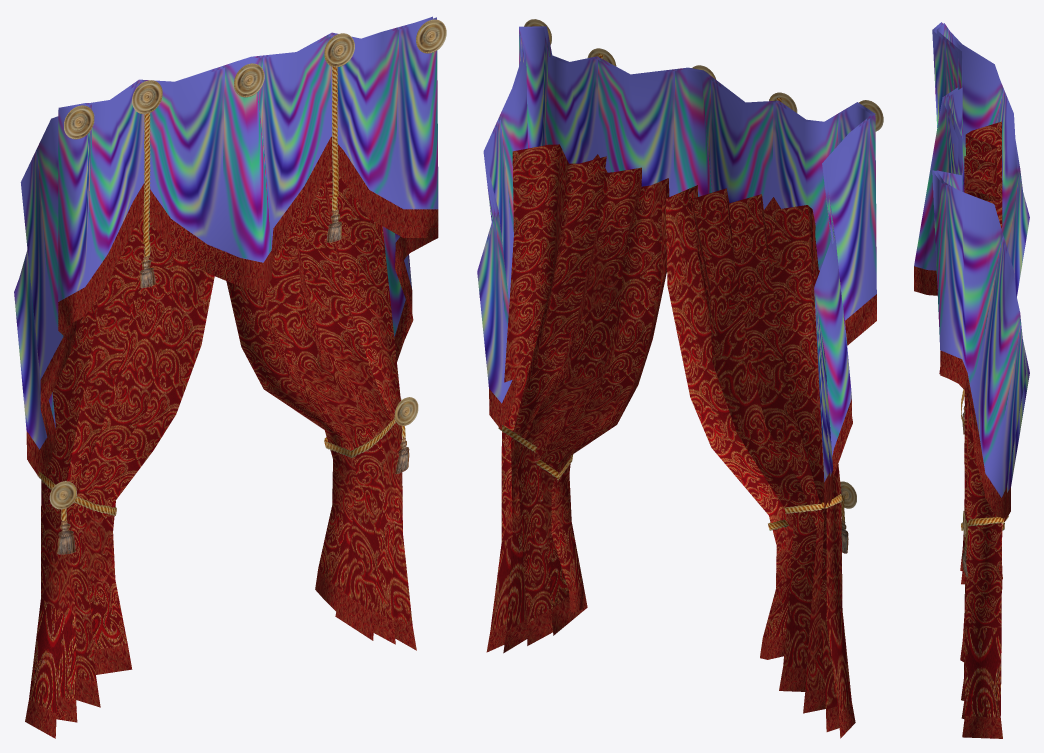
The model's file is Curtains1.fbx.
3 views of the same model, side by side, from view 1: azimuth 30°, elevation 25°; view 2: azimuth 150°, elevation 25°; view 3: azimuth 270°, elevation 25° (orthographic). The views are drawn at different scales.
Visible parts, largest first — view 1: CurtainStyle1_LOD0; view 2: CurtainStyle1_LOD0; view 3: CurtainStyle1_LOD0.
Boxes of the visible parts, left/top/right/bottom form: CurtainStyle1_LOD0: left=14, top=16, right=446, bottom=738; CurtainStyle1_LOD0: left=477, top=19, right=883, bottom=738; CurtainStyle1_LOD0: left=914, top=22, right=1029, bottom=738.
Size of what is drawn, in the model's own units: 283 by 452 by 84.26.
